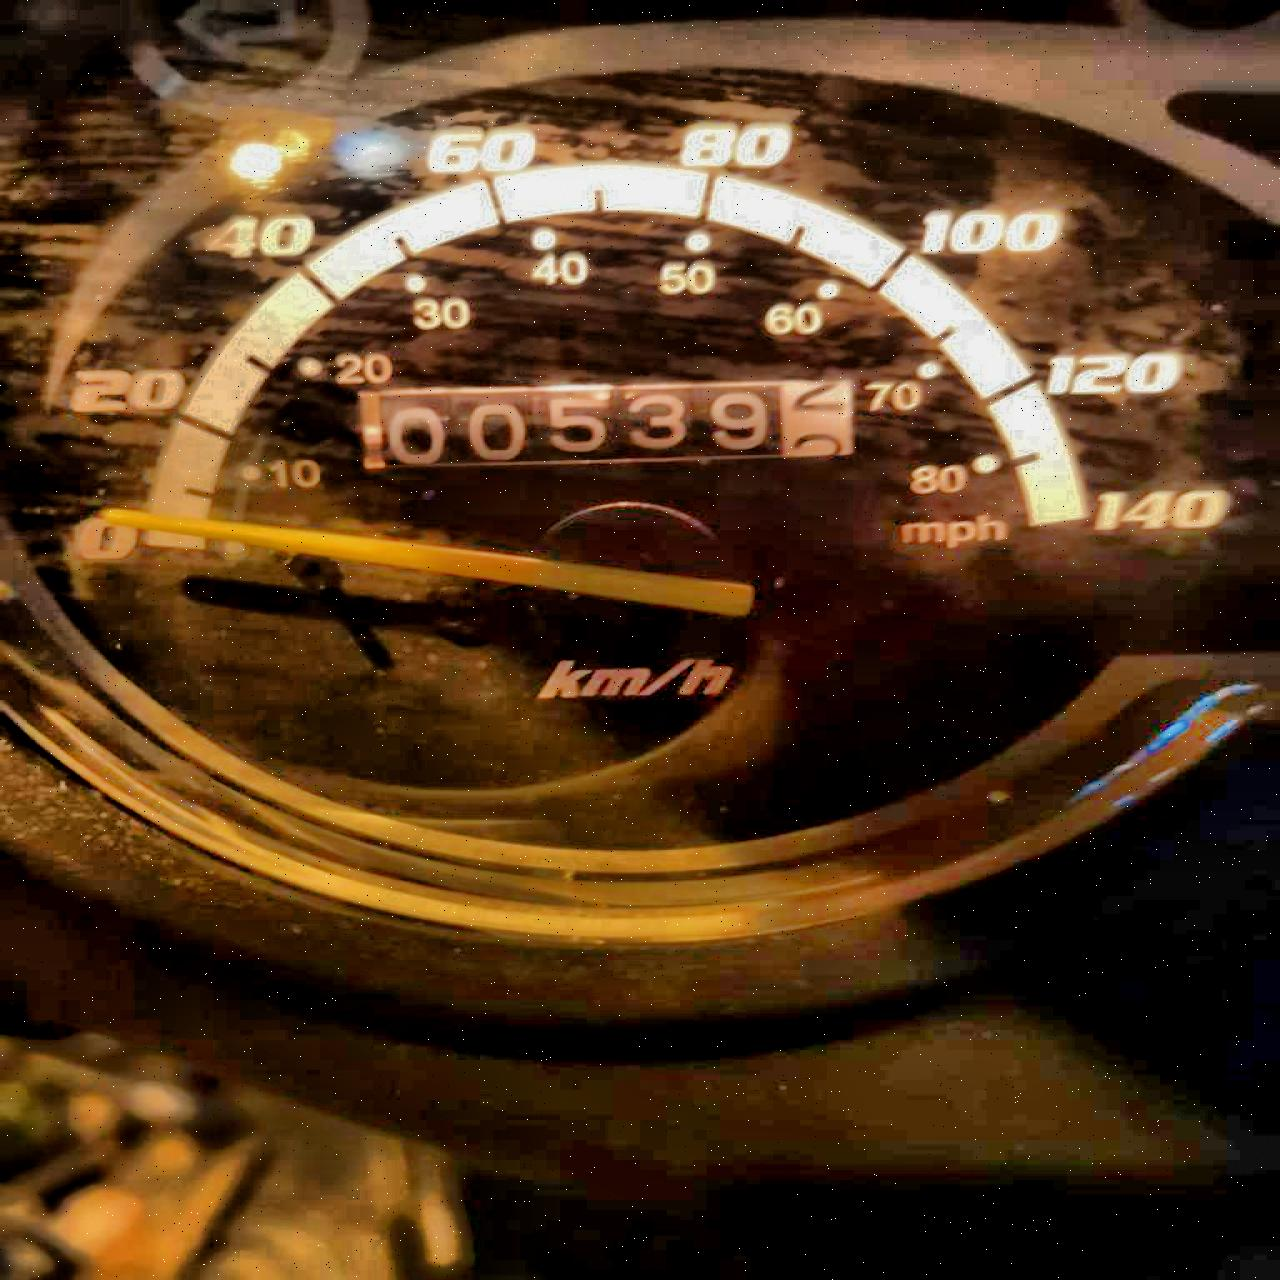0: (463, 393, 525, 462), (388, 396, 447, 467)
2: (785, 376, 850, 415)
3: (627, 392, 690, 450)
5: (544, 388, 613, 452)
9: (701, 388, 767, 448)
odometer: (349, 375, 858, 471)
